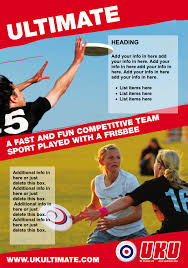disc: (38, 202, 72, 231), (75, 42, 113, 59), (113, 240, 139, 263)
